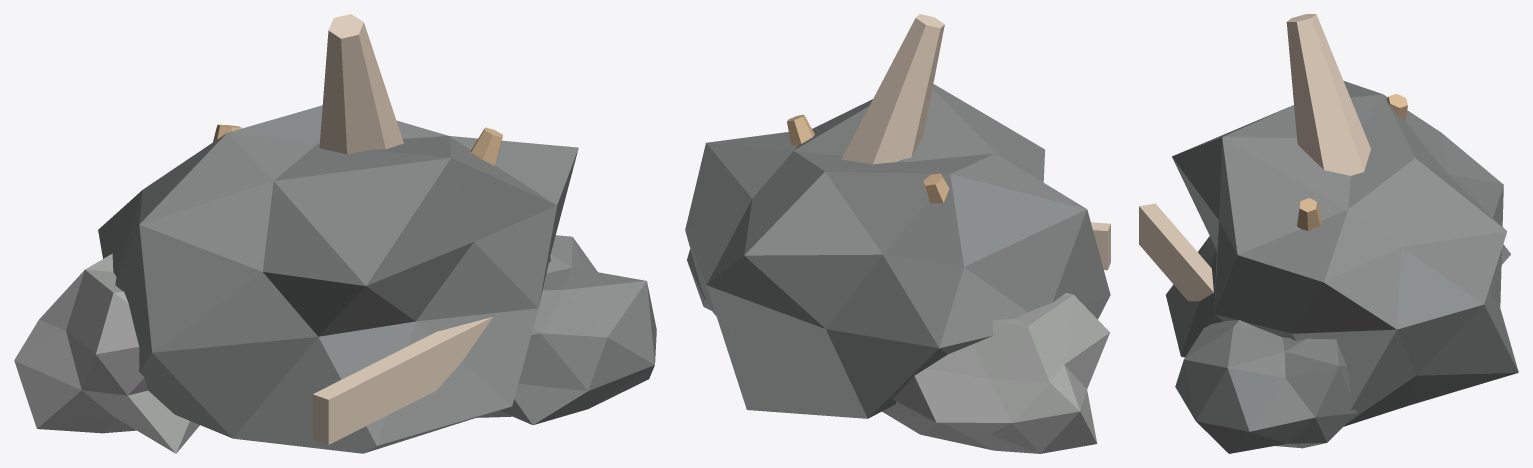
The model's file is t2_ore_full.glb.
The picture shows the model from 3 angles, left to right: view 1: azimuth 30°, elevation 25°; view 2: azimuth 150°, elevation 25°; view 3: azimuth 270°, elevation 25°; orthographic projection. The views are drawn at different scales.
Visible parts, largest first — view 1: OreHostCenter, OreHostLeft, OreHostRight, FrontOreVein, CenterOreShard, RightOreShard; view 2: OreHostCenter, OreHostLeft, CenterOreShard, FrontOreVein, RightOreShard, LeftOreShard; view 3: OreHostCenter, OreHostRight, CenterOreShard, FrontOreVein, RightOreShard.
Boxes of the visible parts, left/top/right/bottom form: OreHostCenter: left=98, top=105, right=578, bottom=453; OreHostLeft: left=14, top=253, right=199, bottom=453; OreHostRight: left=476, top=235, right=656, bottom=424; FrontOreVein: left=312, top=317, right=492, bottom=444; CenterOreShard: left=319, top=14, right=403, bottom=154; RightOreShard: left=471, top=127, right=502, bottom=165; OreHostCenter: left=685, top=84, right=1110, bottom=418; OreHostLeft: left=882, top=292, right=1109, bottom=453; CenterOreShard: left=841, top=14, right=944, bottom=164; FrontOreVein: left=1091, top=222, right=1110, bottom=270; RightOreShard: left=787, top=114, right=814, bottom=145; LeftOreShard: left=923, top=173, right=949, bottom=203; OreHostCenter: left=1166, top=81, right=1518, bottom=426; OreHostRight: left=1175, top=320, right=1356, bottom=453; CenterOreShard: left=1286, top=14, right=1370, bottom=175; FrontOreVein: left=1139, top=203, right=1213, bottom=301; RightOreShard: left=1297, top=198, right=1321, bottom=230.
Size of the model in its own units: 1.48 by 1.1 by 1.08.
